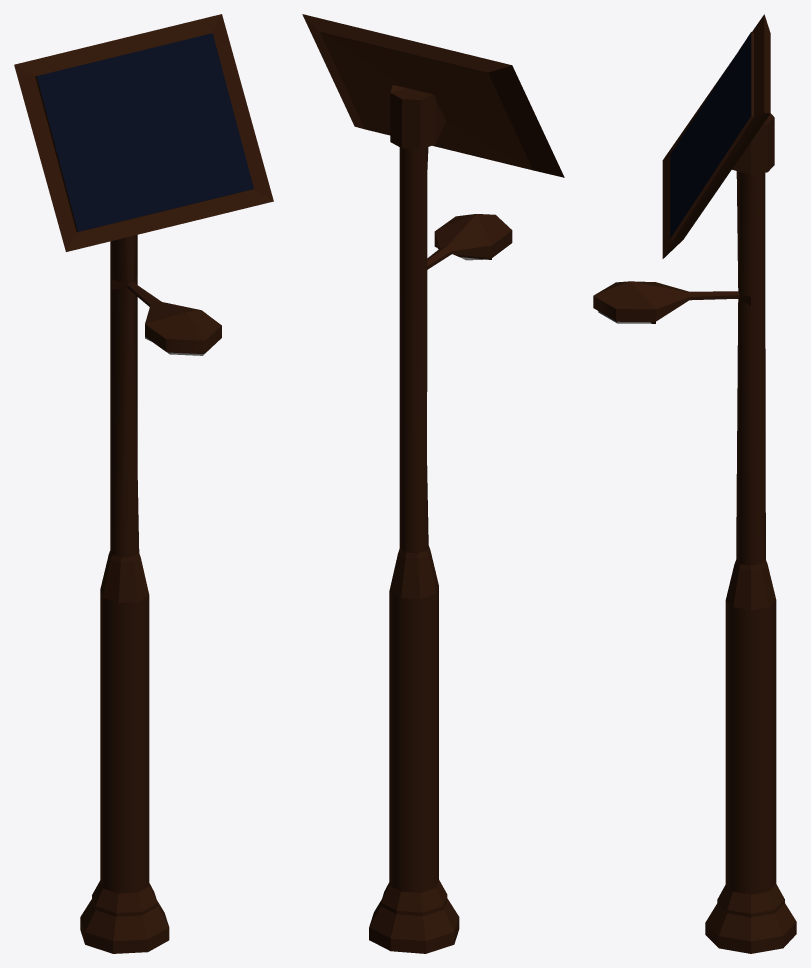
The model's file is Street lamp.fbx.
The picture shows the model from 3 angles, left to right: view 1: azimuth 30°, elevation 25°; view 2: azimuth 150°, elevation 25°; view 3: azimuth 270°, elevation 25°; orthographic projection. The views are drawn at different scales.
Parts seen in each view (by area): view 1: Cylinder001; view 2: Cylinder001; view 3: Cylinder001.
Part boxes in pixels (x1,y1,x2,y2): Cylinder001: [14, 14, 273, 953]; Cylinder001: [302, 14, 564, 953]; Cylinder001: [593, 14, 796, 953].
Bounding box in the file's own units: 499 × 2041 × 432.
